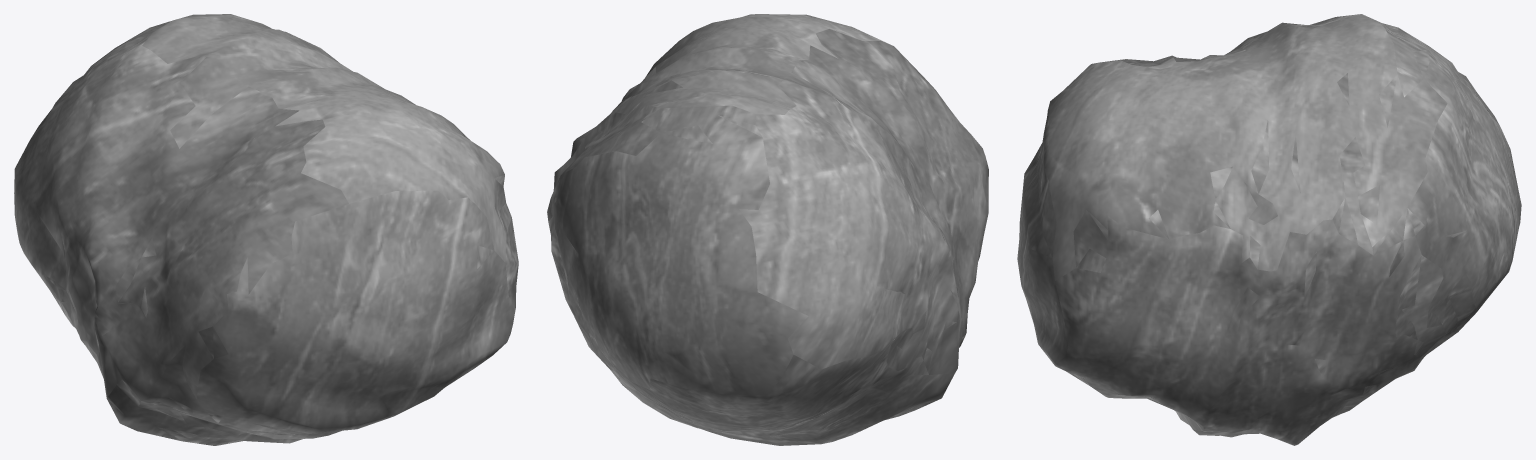
Rendered from roca3.glb.
3 renders of one model, left to right at view 1: azimuth 30°, elevation 25°; view 2: azimuth 150°, elevation 25°; view 3: azimuth 270°, elevation 25°, orthographic.
Visible parts, largest first — view 1: 02_Landscape.001; view 2: 02_Landscape.001; view 3: 02_Landscape.001.
Boxes of the visible parts, x1,y1,x2,y2 form: 02_Landscape.001: [14, 14, 518, 445]; 02_Landscape.001: [547, 14, 988, 445]; 02_Landscape.001: [1017, 14, 1521, 445].
Size of the model in its own units: 0.8517 by 0.824 by 1.
Materials: 1 (1 with a texture image).
